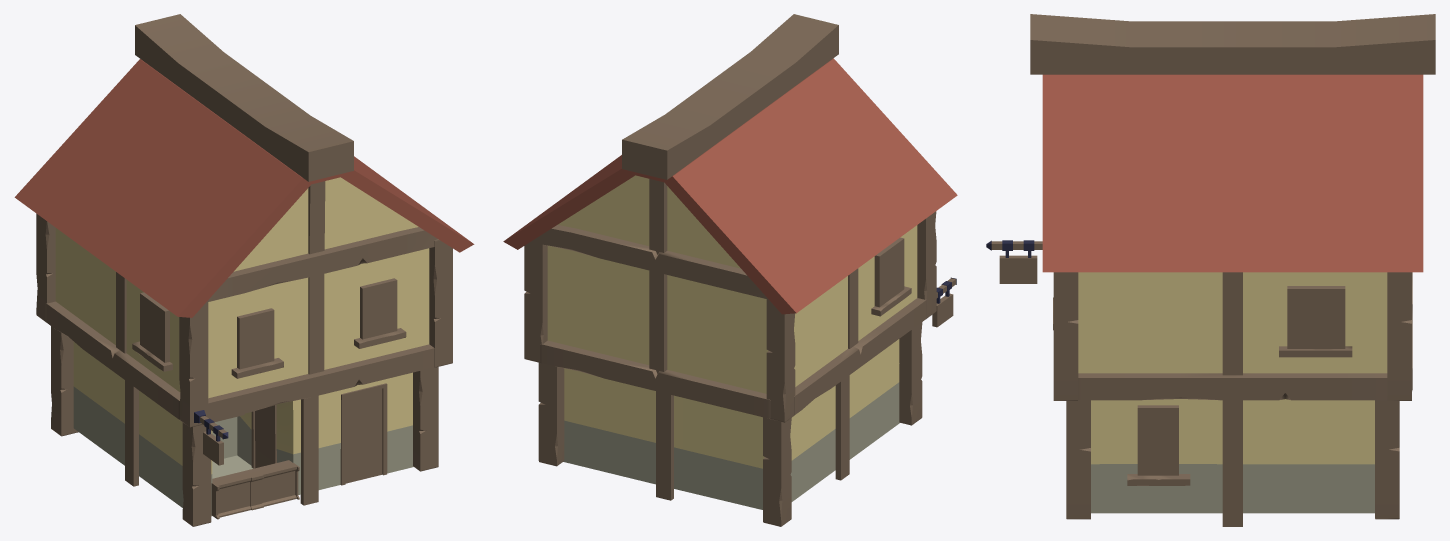
File: merchant_s shop.fbx
3 views of the same model, side by side, from view 1: azimuth 30°, elevation 25°; view 2: azimuth 150°, elevation 25°; view 3: azimuth 270°, elevation 25° (orthographic). The views are drawn at different scales.
Parts seen in each view (by area): view 1: Cube.014, Plane.001, Plane, Plane.003, Plane.002, Cube.030, Cube.029; view 2: Cube.014, Plane, Plane.001, Plane.002, Plane.003, Cube.029; view 3: Plane.001, Cube.014, Plane, Plane.002, Plane.003, Cube.029.
Part boxes in pixels (x1=…): Cube.014: x1=36, y1=14, x2=452, y2=526; Plane.001: x1=14, y1=59, x2=474, y2=317; Plane: x1=55, y1=177, x2=429, y2=474; Plane.003: x1=140, y1=278, x2=397, y2=485; Plane.002: x1=73, y1=386, x2=413, y2=516; Cube.030: x1=211, y1=413, x2=299, y2=519; Cube.029: x1=200, y1=416, x2=226, y2=465; Cube.014: x1=524, y1=14, x2=936, y2=526; Plane: x1=547, y1=175, x2=917, y2=468; Plane.001: x1=503, y1=58, x2=957, y2=314; Plane.002: x1=563, y1=382, x2=899, y2=509; Plane.003: x1=874, y1=237, x2=904, y2=307; Cube.029: x1=932, y1=278, x2=955, y2=327; Plane.001: x1=1042, y1=74, x2=1423, y2=272; Cube.014: x1=1030, y1=14, x2=1435, y2=526; Plane: x1=1078, y1=272, x2=1387, y2=464; Plane.002: x1=1091, y1=464, x2=1374, y2=513; Plane.003: x1=1137, y1=286, x2=1345, y2=475; Cube.029: x1=991, y1=241, x2=1042, y2=283.
Size of the model in its own units: 678 by 811 by 761.
